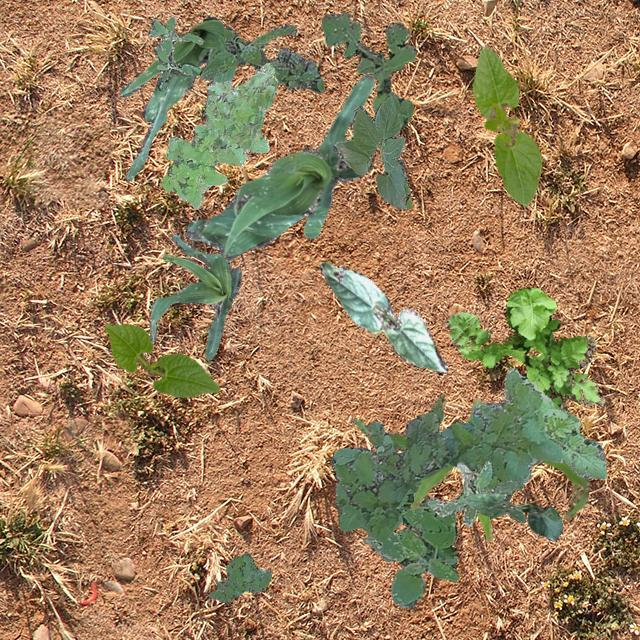crop: (184, 73, 374, 260), (410, 398, 590, 540), (119, 16, 234, 180), (318, 260, 448, 372), (148, 233, 240, 359), (472, 46, 542, 204), (332, 94, 410, 208), (104, 324, 218, 396), (352, 392, 444, 450), (462, 492, 562, 540)
weed: (330, 366, 606, 542), (444, 286, 604, 410), (160, 61, 276, 208), (362, 479, 458, 606), (320, 9, 416, 128), (198, 22, 324, 92), (426, 460, 524, 524), (146, 15, 204, 90), (208, 552, 270, 600)
